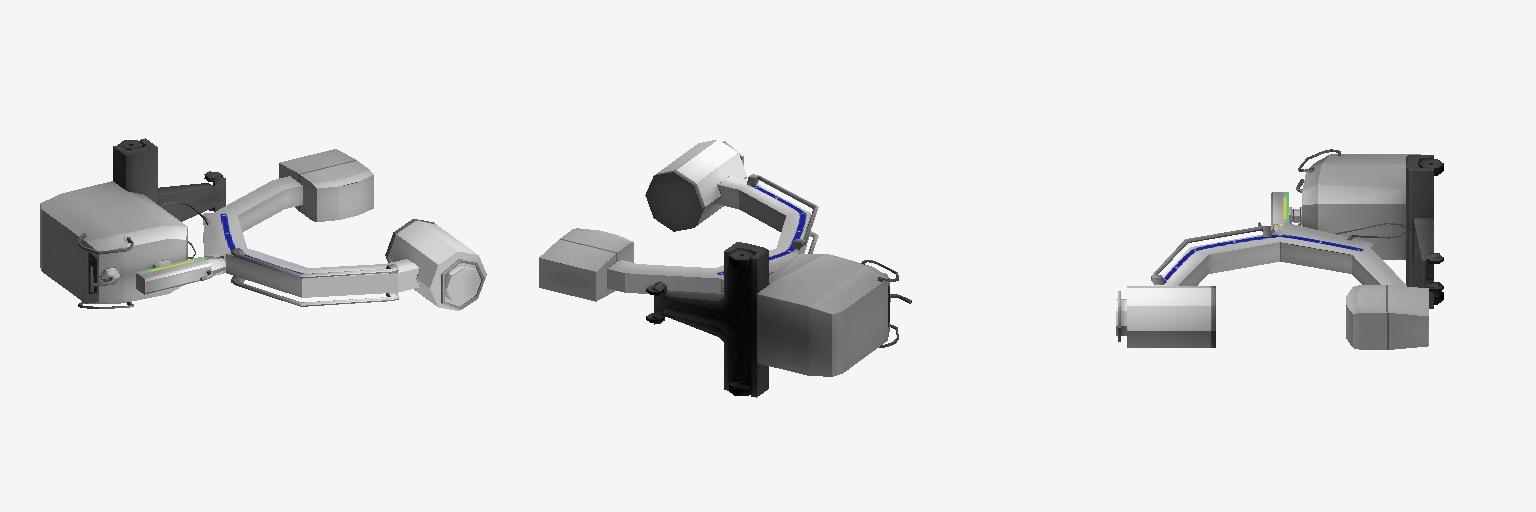
The picture shows the model from 3 angles: view 1: azimuth 30°, elevation 25°; view 2: azimuth 150°, elevation 25°; view 3: azimuth 270°, elevation 25°; orthographic projection.
Visible parts, largest first — view 1: carm_Cylinder.001; view 2: carm_Cylinder.001; view 3: carm_Cylinder.001.
Boxes of the visible parts, box(x1,y1,x2,y2) form: carm_Cylinder.001: box(40, 138, 486, 310); carm_Cylinder.001: box(539, 139, 911, 397); carm_Cylinder.001: box(1116, 149, 1443, 349).
Bounding box in the file's own units: 1.88 × 0.8051 × 1.73.
Materials: 1 (1 with a texture image).